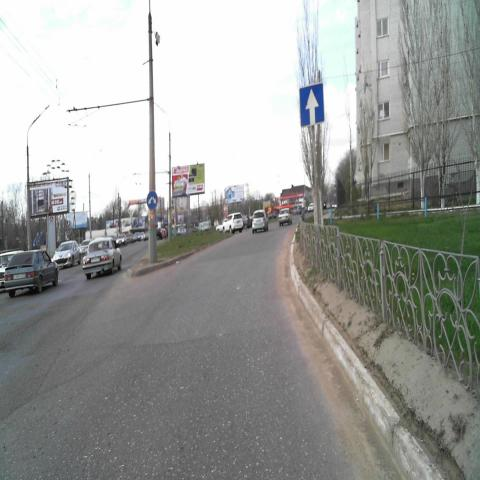4_2_3: (146, 191, 157, 210)
